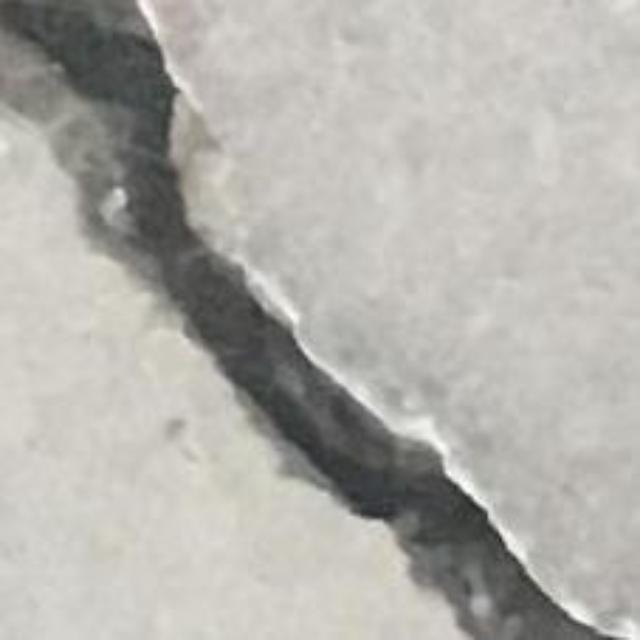crack: (0, 0, 611, 639)
